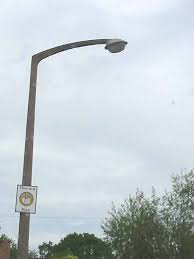light_pole: (14, 47, 43, 258)
